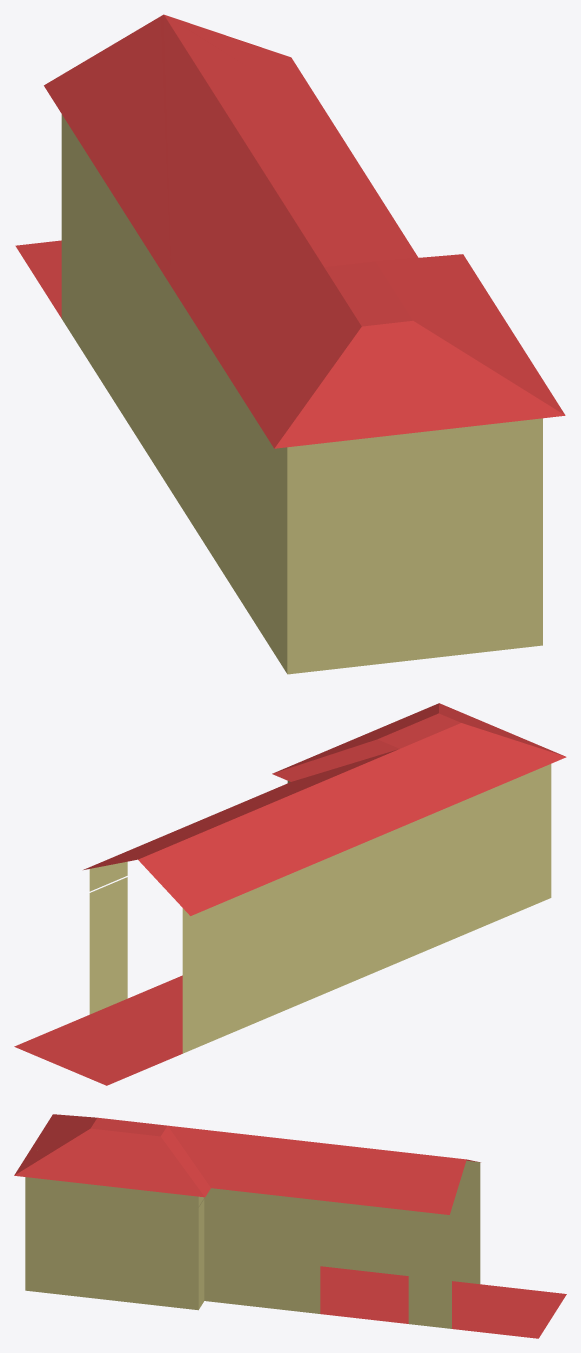
3 views of the same model, one above another, from view 1: azimuth 30°, elevation 25°; view 2: azimuth 150°, elevation 25°; view 3: azimuth 270°, elevation 25° (orthographic). The views are drawn at different scales.
Bounding box in the file's own units: 20.33 × 44.42 × 12.98.
